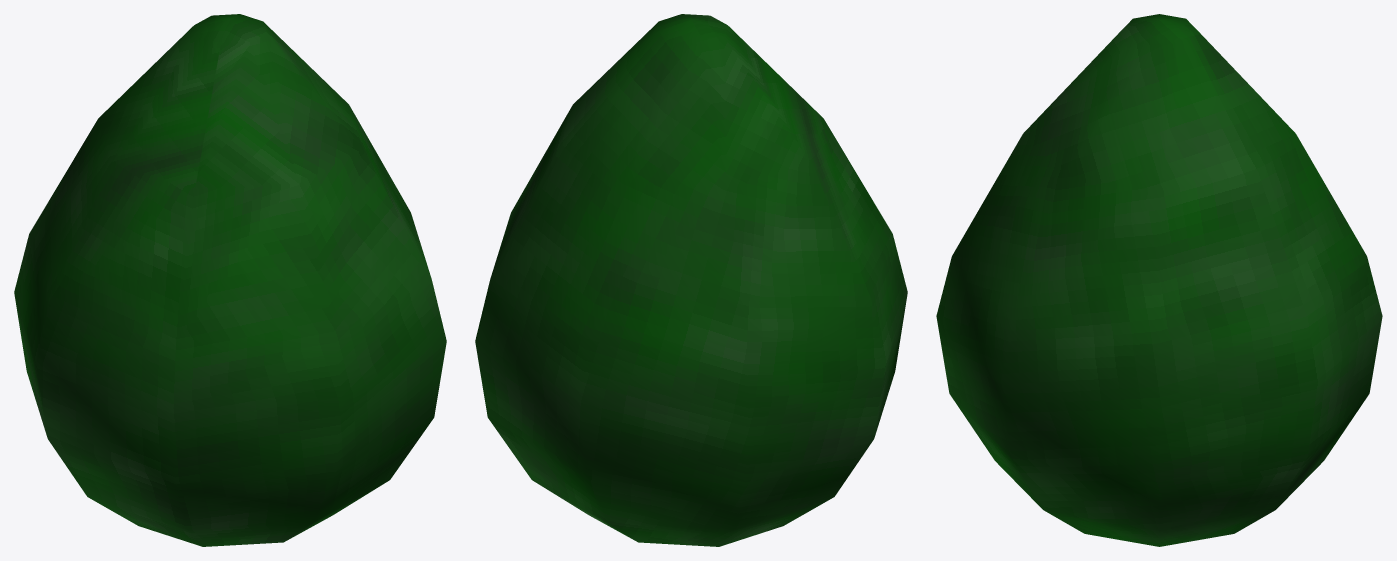
File: treeE.obj
3 views of the same model, side by side, from view 1: azimuth 30°, elevation 25°; view 2: azimuth 150°, elevation 25°; view 3: azimuth 270°, elevation 25° (orthographic).
Parts seen in each view (by area): view 1: Tree_E_TreeE; view 2: Tree_E_TreeE; view 3: Tree_E_TreeE.
Part boxes in pixels (box(x1,y1,x2,y2)): Tree_E_TreeE: box(14, 14, 446, 546); Tree_E_TreeE: box(475, 14, 907, 546); Tree_E_TreeE: box(936, 14, 1382, 546).
Size of the model in its own units: 0.821 by 1.02 by 0.821.
Materials: 1 (1 with a texture image).
